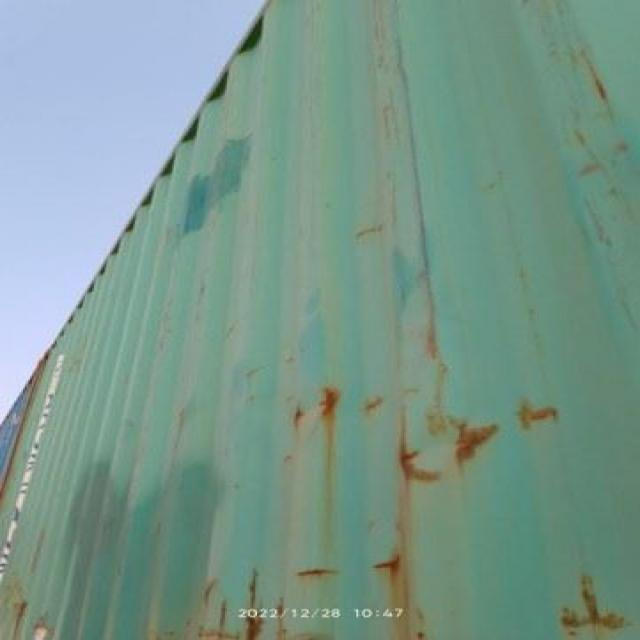rust: (397, 430, 445, 513), (454, 426, 499, 484), (317, 392, 354, 424), (530, 410, 562, 433), (364, 573, 429, 575)
